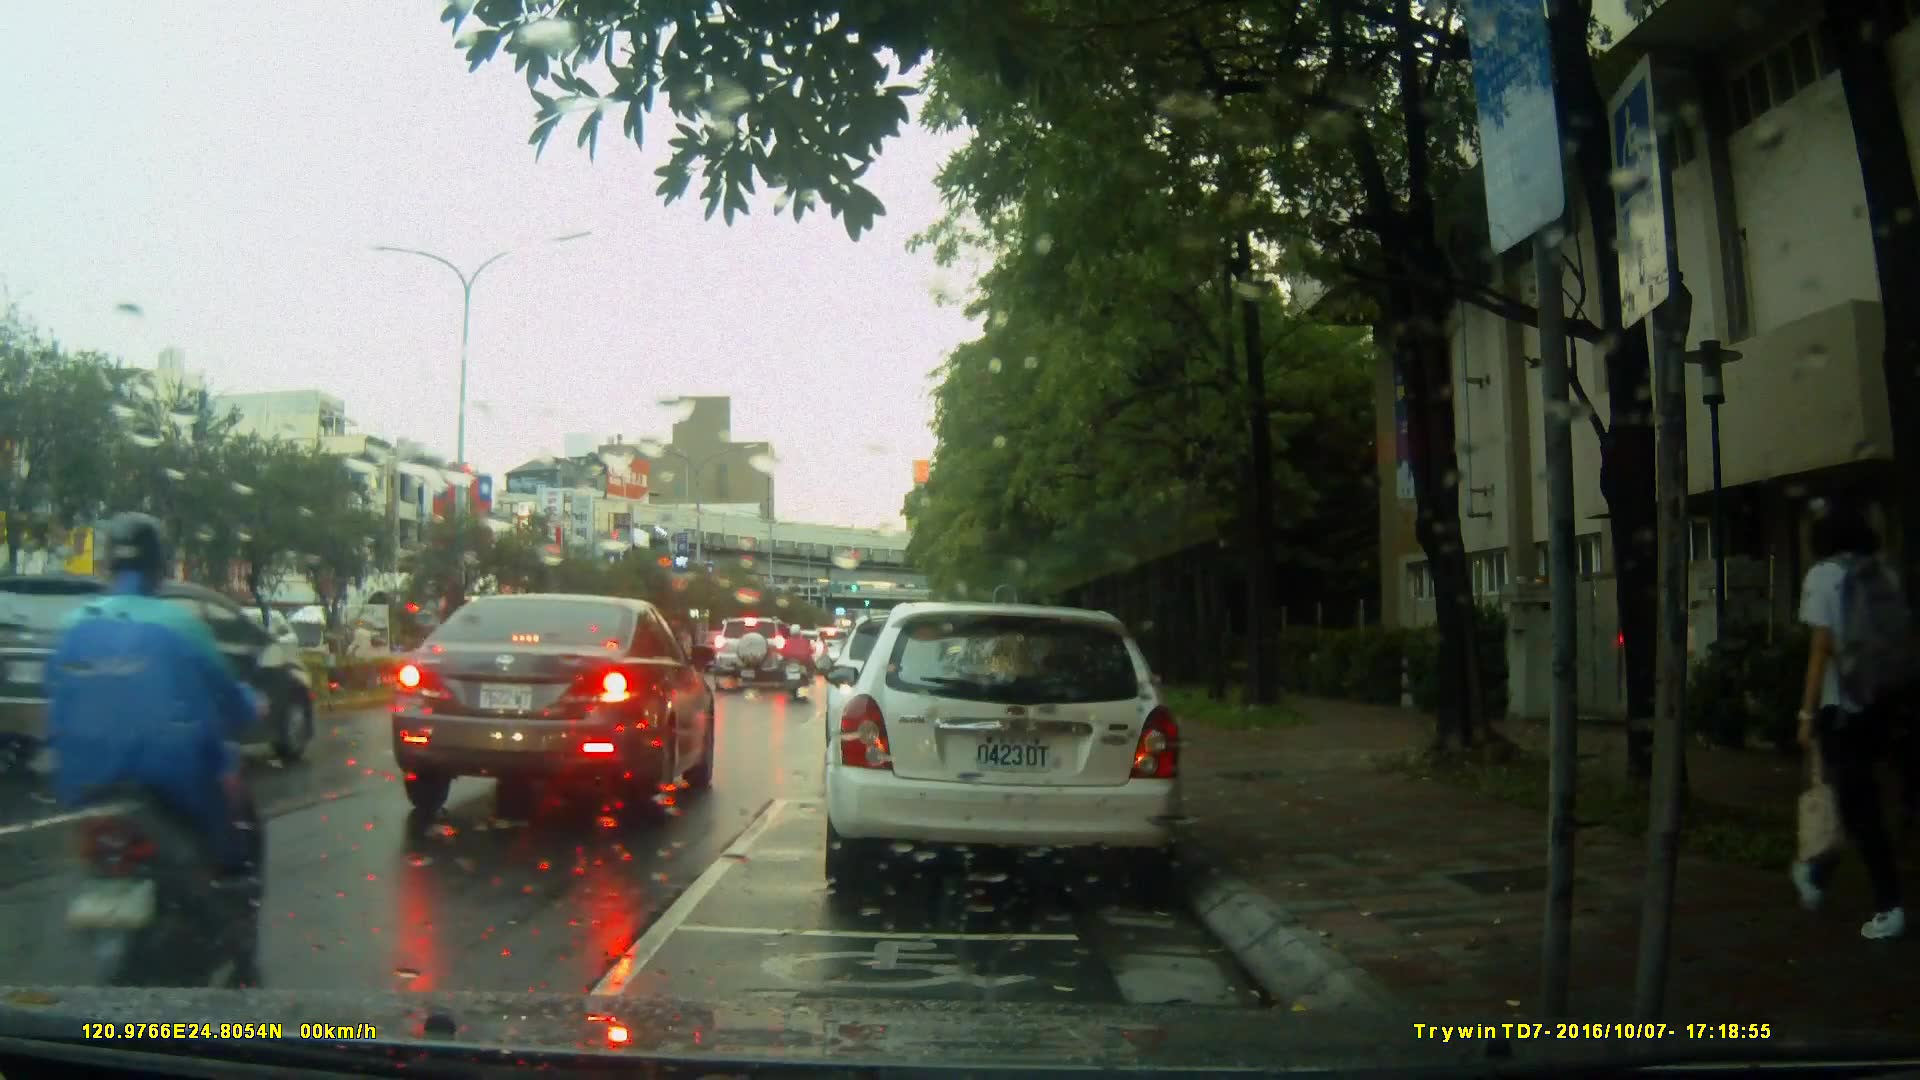pedestrian: (1783, 497, 1920, 933)
rider: (53, 514, 290, 1003), (778, 622, 818, 707)
vehicle: (820, 602, 1188, 898), (388, 592, 719, 825), (4, 571, 313, 764), (714, 616, 802, 693)
